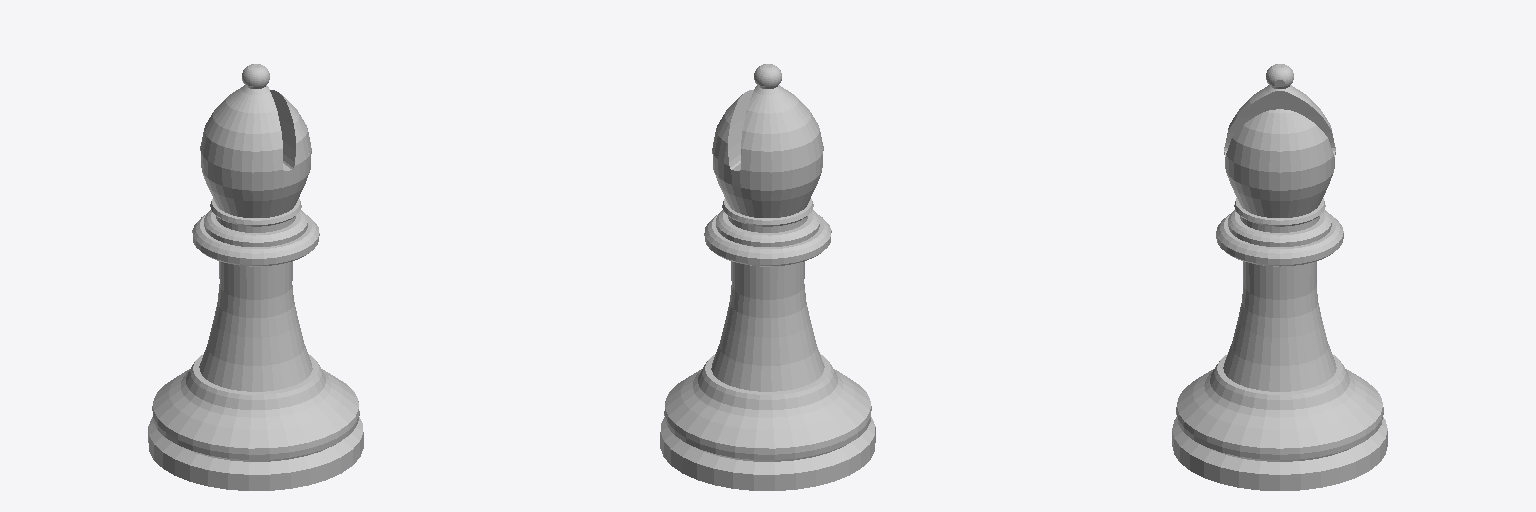
File: bishop.obj
3 views of the same model, side by side, from view 1: azimuth 30°, elevation 25°; view 2: azimuth 150°, elevation 25°; view 3: azimuth 270°, elevation 25° (orthographic).
Parts seen in each view (by area): view 1: Plane; view 2: Plane; view 3: Plane.
Part boxes in pixels (left/top/right/bottom): Plane: left=148, top=64, right=363, bottom=490; Plane: left=660, top=64, right=875, bottom=490; Plane: left=1172, top=64, right=1387, bottom=490.
Size of the model in its own units: 1.41 by 2.74 by 1.41.